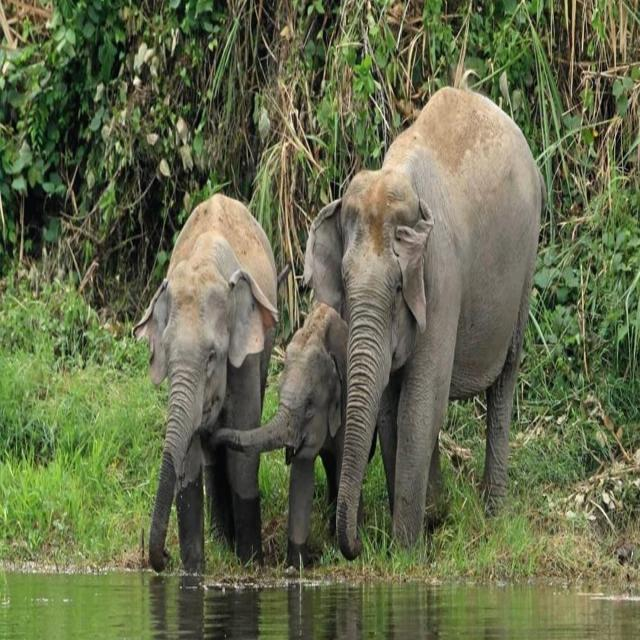Elephant: (323, 83, 547, 536), (138, 187, 272, 584), (262, 279, 346, 566)
